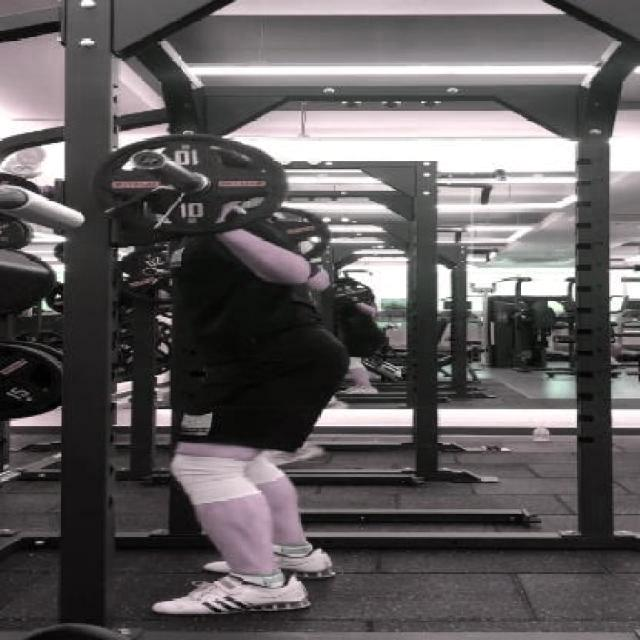barbell: (100, 123, 292, 243)
